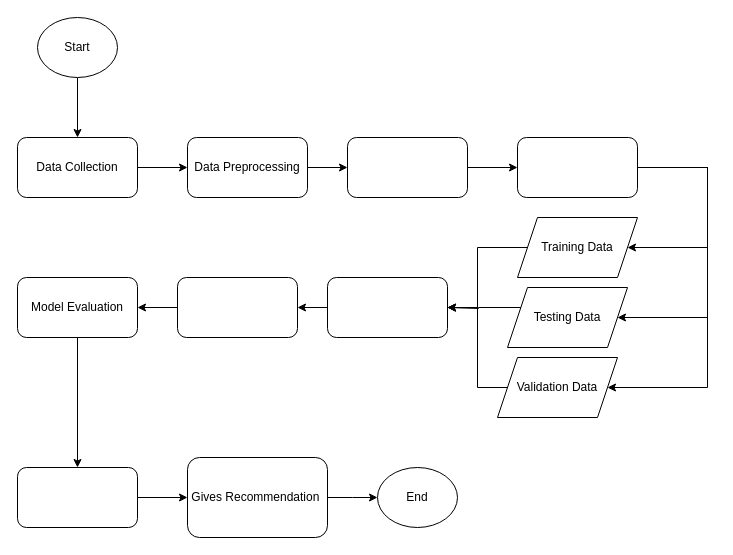
This 733x555 diagram has some shape labels left out. The shapes that lost their labels are listed below. From the top down, each one's box as (x1, y1, x2, y2) in pixels, then its label:
(346, 136, 468, 198): Graph Representation from Data
(516, 136, 638, 198): Data Splitting
(176, 276, 298, 338): Model Training
(326, 276, 448, 338): Model Building
(16, 466, 138, 528): Save Node Embedding
